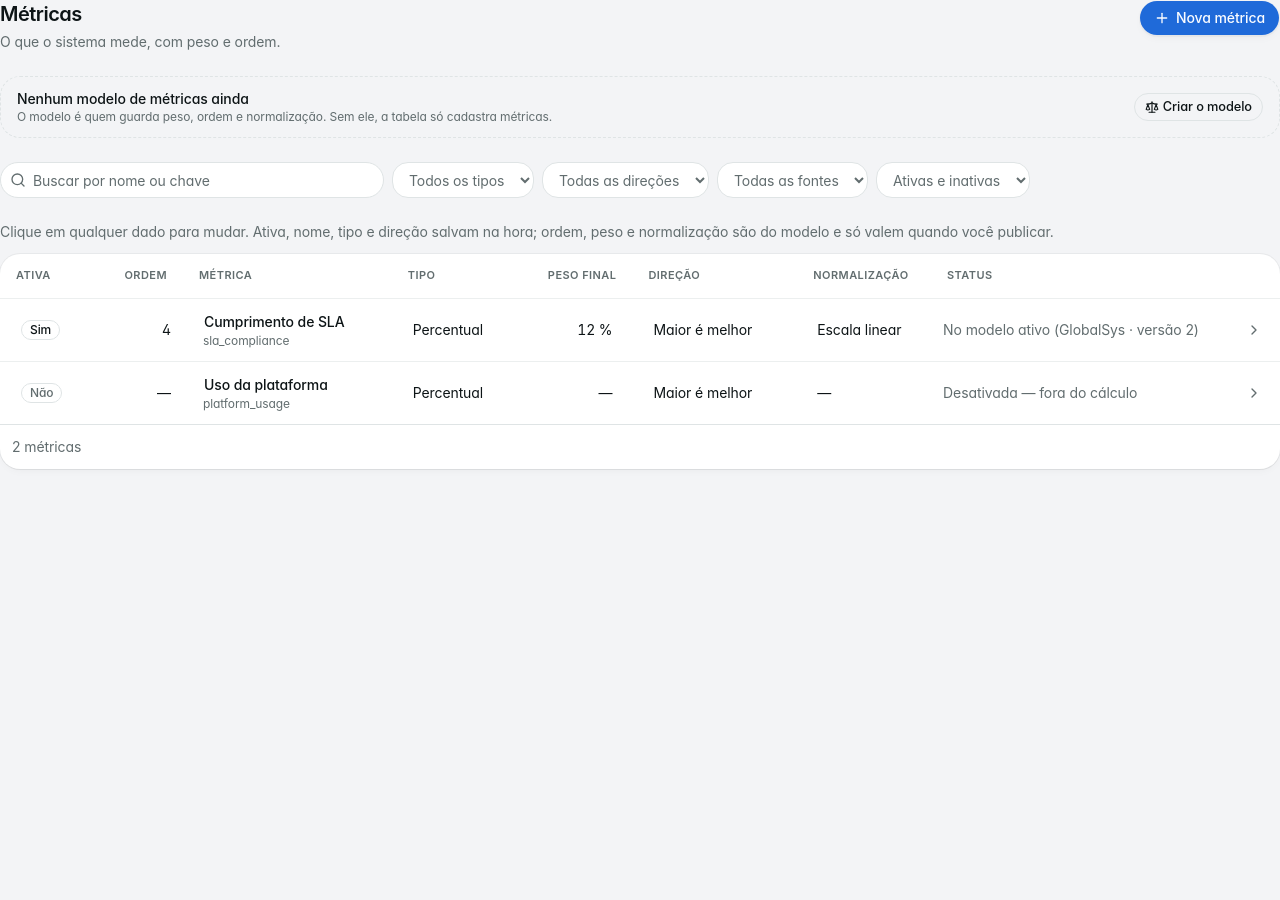
MetricFormDialog (cadastro da métrica, §31) › não deixa passar nome curto demais
expect the table named "Métricas da organização" is shown: met, box 0,254 -> 1279,424
Step 1. Click the button "Nova métrica" → (1210, 18), box 1139,0 -> 1279,36
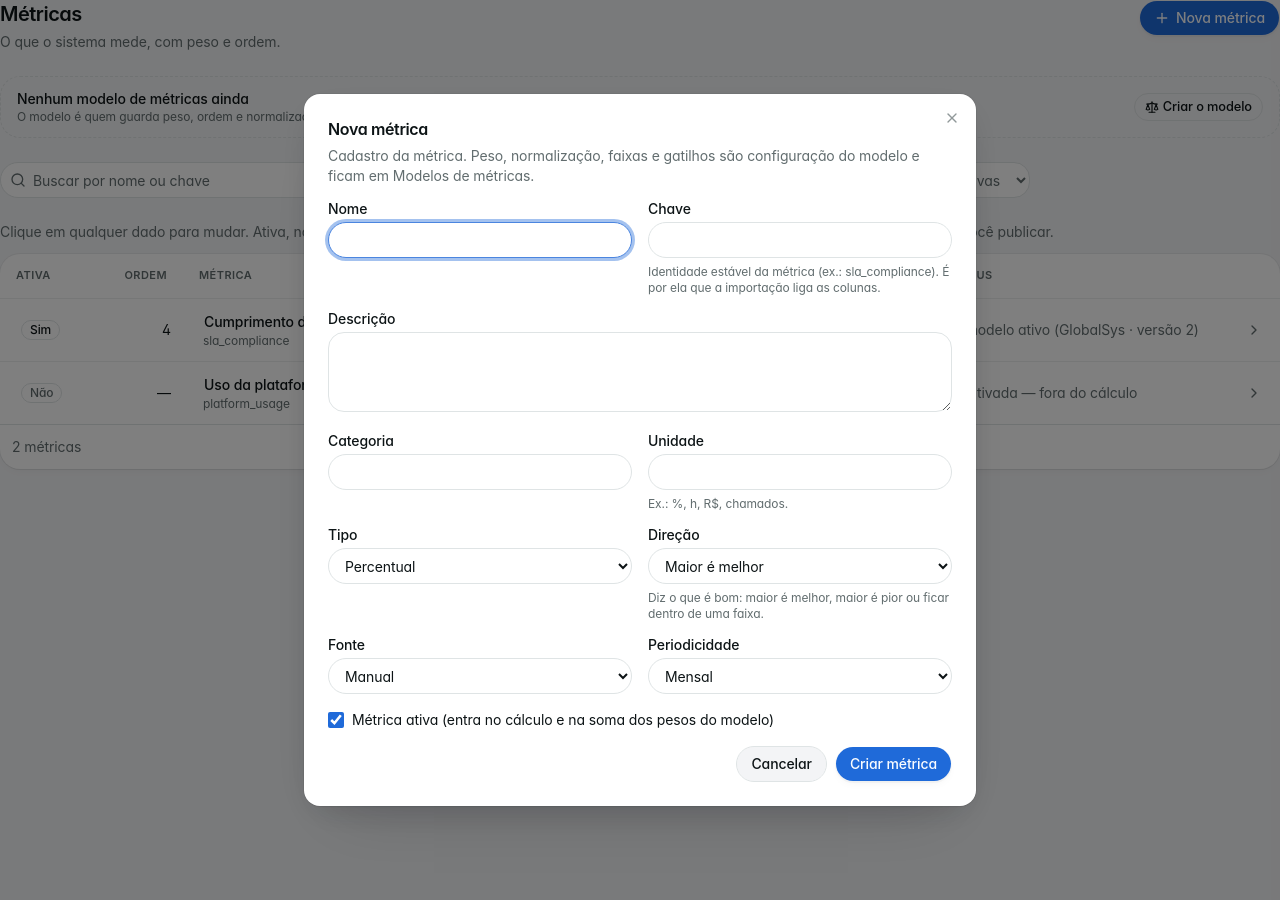
Step 2. Type "a" into the field labelled "Nome" → (480, 240), box 328,222 -> 632,258
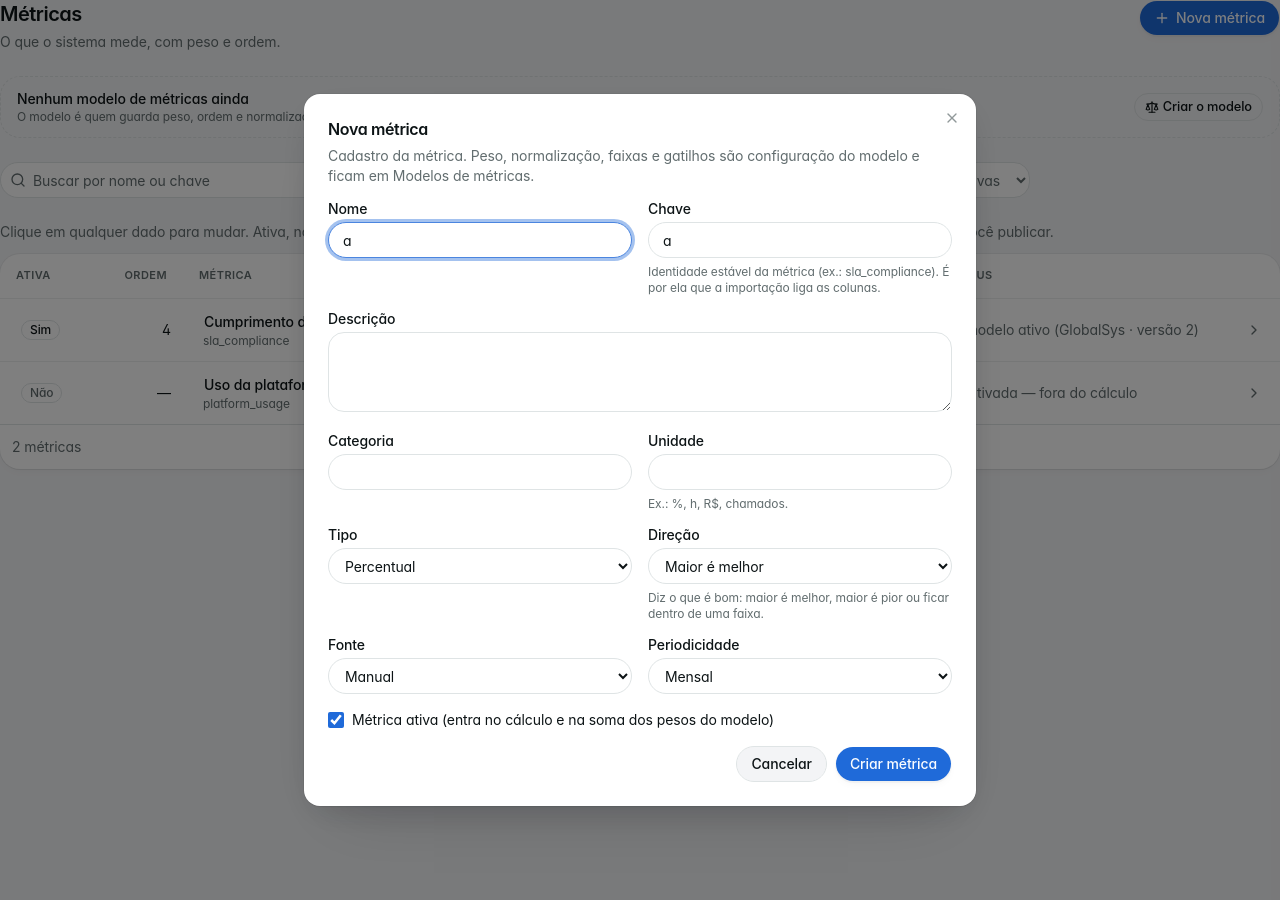
Step 3. Click the button "Criar métrica" → (893, 764), box 835,746 -> 952,782
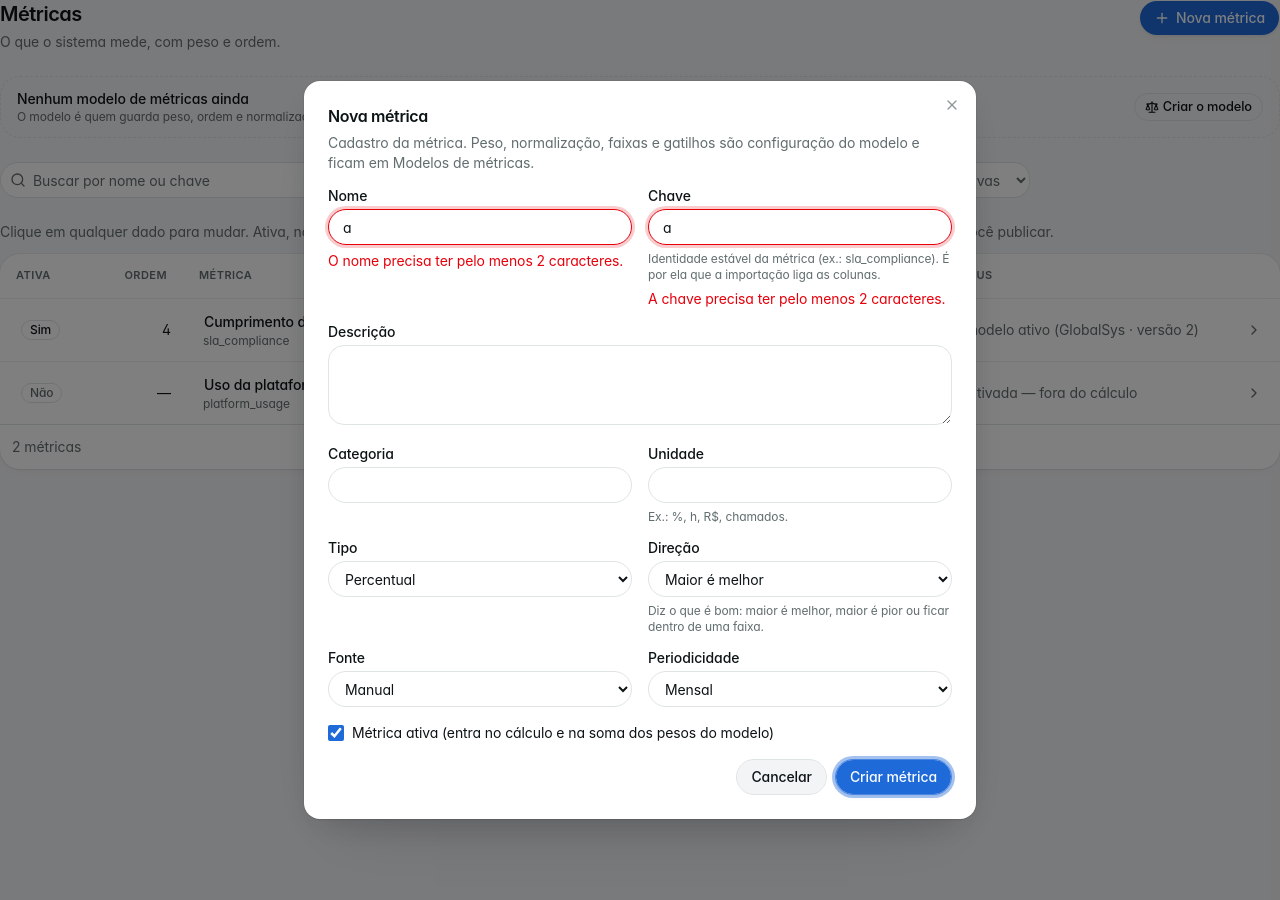
expect the text "O nome precisa ter pelo menos 2 caracteres." is shown: met, box 328,251 -> 632,271
